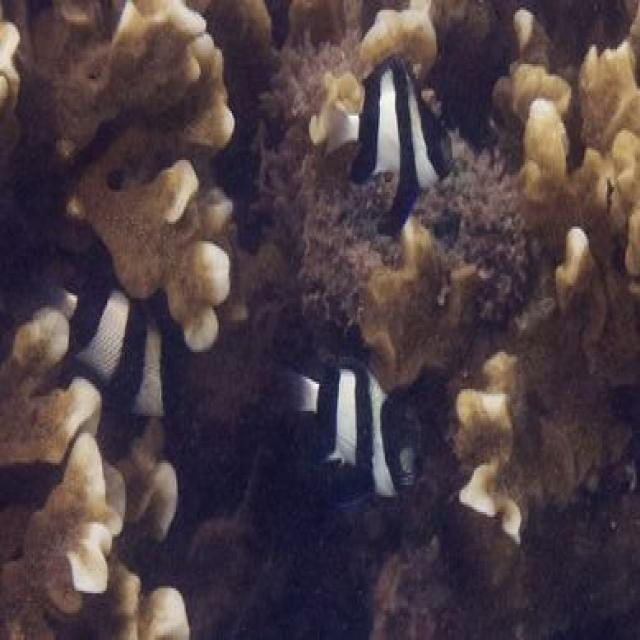Three_striped DasmselFish: (320, 54, 454, 229), (280, 351, 423, 510), (26, 270, 176, 416)
